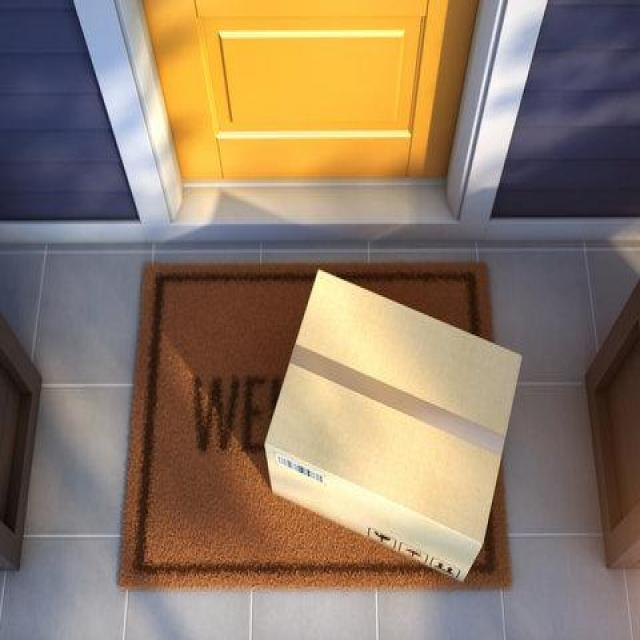box: (260, 268, 522, 584)
